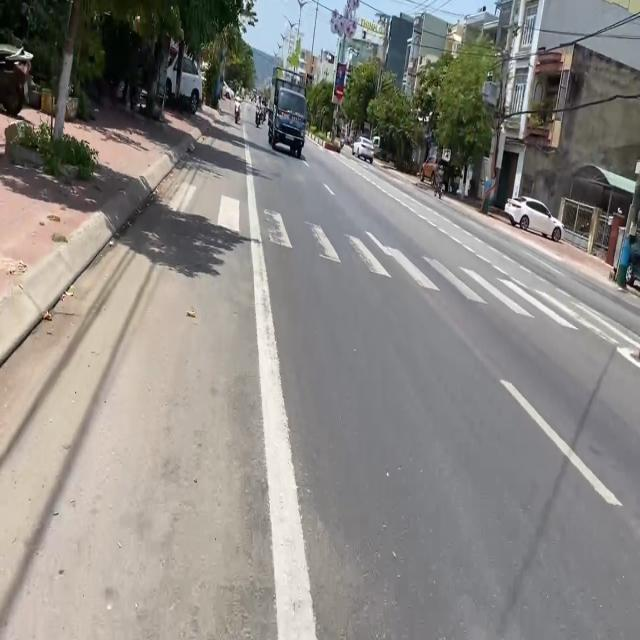walk-crossing: (178, 183, 576, 328)
